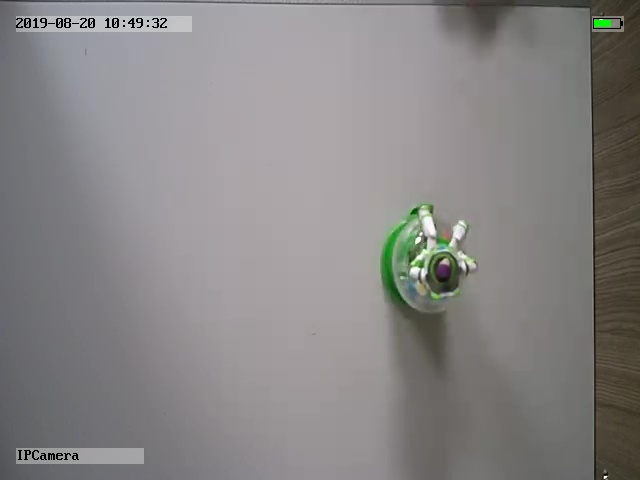buzz: (379, 202, 479, 320)
